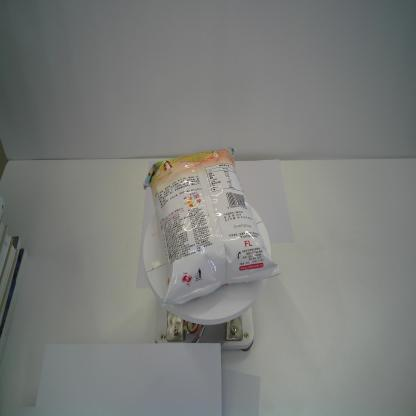Puffed Food: (142, 144, 281, 306)
